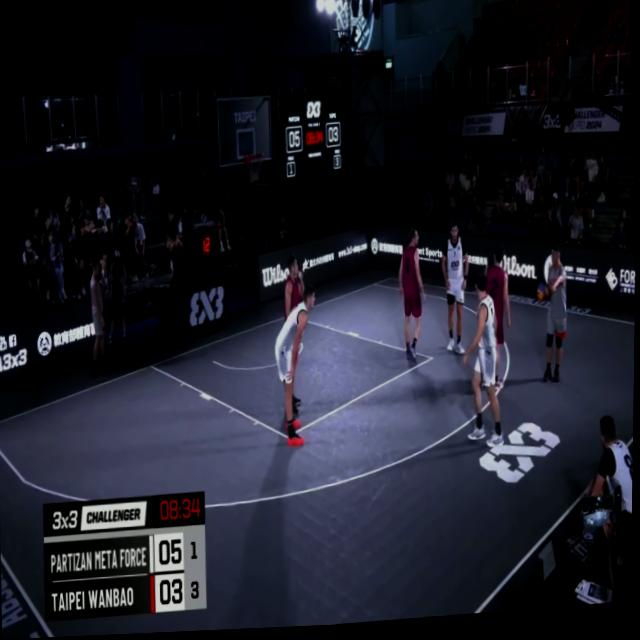ball: (537, 284, 552, 311)
hoop: (244, 151, 267, 189)
player: (458, 277, 507, 453), (271, 288, 323, 450), (473, 246, 517, 395), (277, 250, 310, 426), (396, 230, 427, 368), (442, 226, 473, 364)
